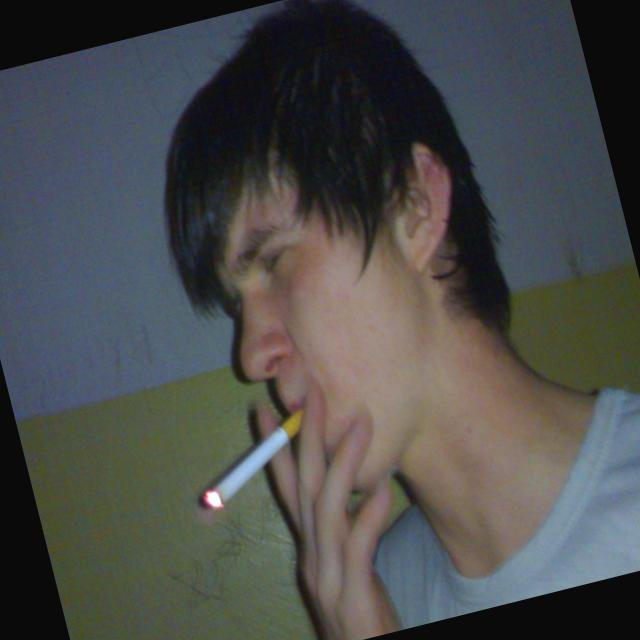smoke: (178, 392, 329, 518)
